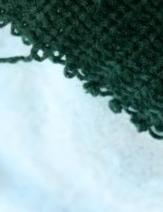snag: (2, 34, 57, 72)
